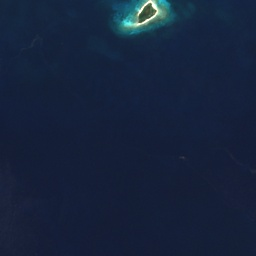Marine Debris: (180, 156, 187, 161)
